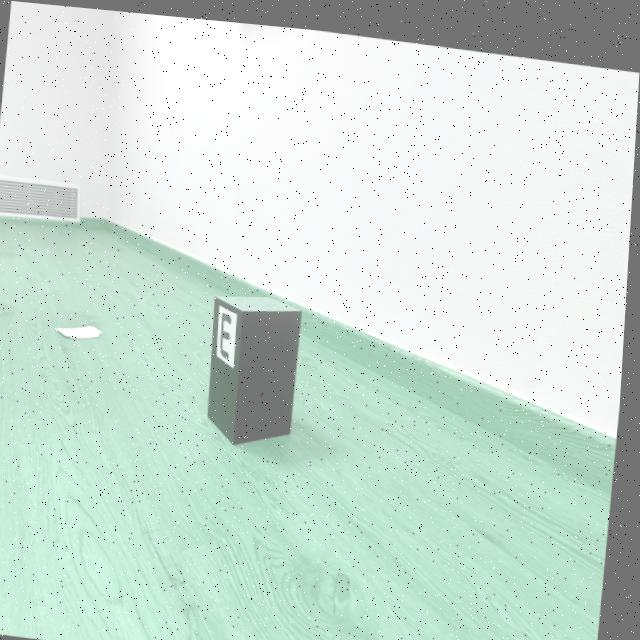E: (223, 307, 235, 354)
